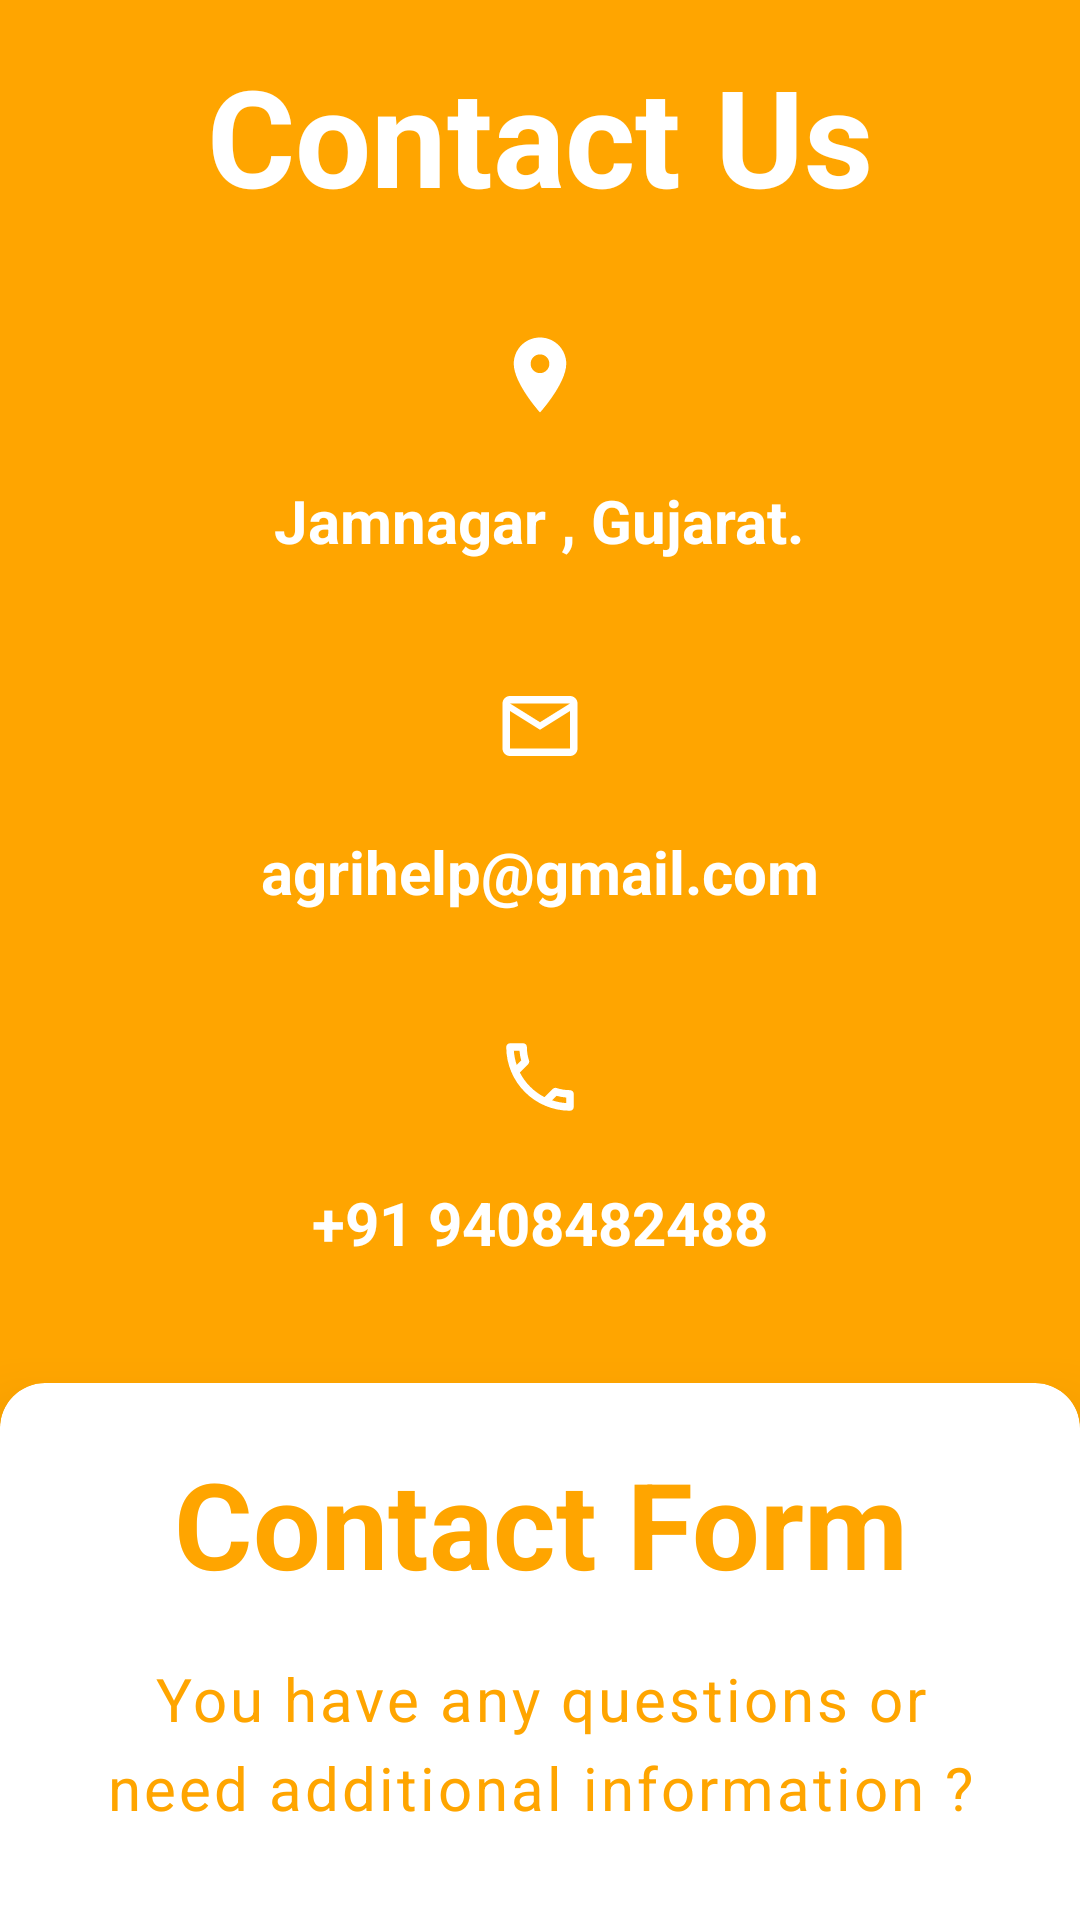

Point at icon controls on the screen. Image size 1080w x 1920h, points as [x,y].
location: [540,374]
phone: [540,1077]
